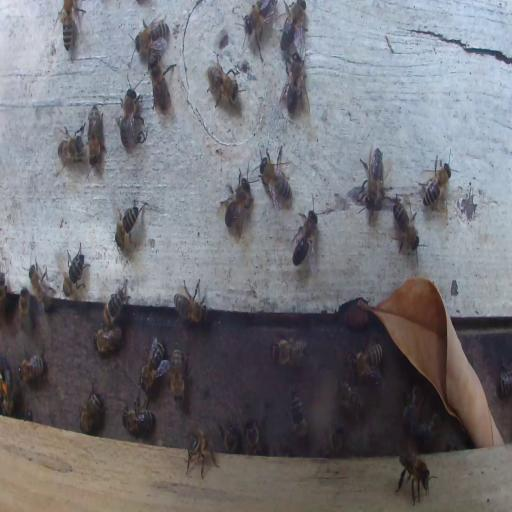bee: (218, 165, 255, 236), (418, 151, 454, 210), (258, 148, 292, 210), (396, 449, 433, 505), (361, 146, 392, 210), (280, 50, 310, 114), (116, 82, 145, 146), (172, 278, 210, 326), (185, 426, 219, 479), (390, 194, 419, 256), (205, 57, 238, 109), (146, 54, 174, 114), (291, 208, 319, 267), (54, 0, 87, 50), (242, 1, 272, 55), (349, 337, 383, 380), (28, 260, 55, 313), (114, 203, 143, 251), (140, 338, 166, 390), (56, 123, 86, 168), (63, 244, 88, 298), (133, 16, 168, 54), (279, 1, 307, 47), (122, 399, 154, 438), (102, 283, 128, 330), (268, 335, 306, 366), (337, 378, 365, 420), (403, 383, 426, 430), (416, 412, 444, 450), (79, 388, 102, 433), (17, 352, 47, 383), (169, 346, 185, 404), (290, 388, 307, 441), (88, 108, 102, 170), (94, 325, 122, 353), (323, 424, 345, 456), (2, 366, 16, 414), (219, 421, 239, 454), (18, 287, 32, 334), (244, 418, 261, 454), (501, 365, 511, 397), (1, 272, 7, 306)
